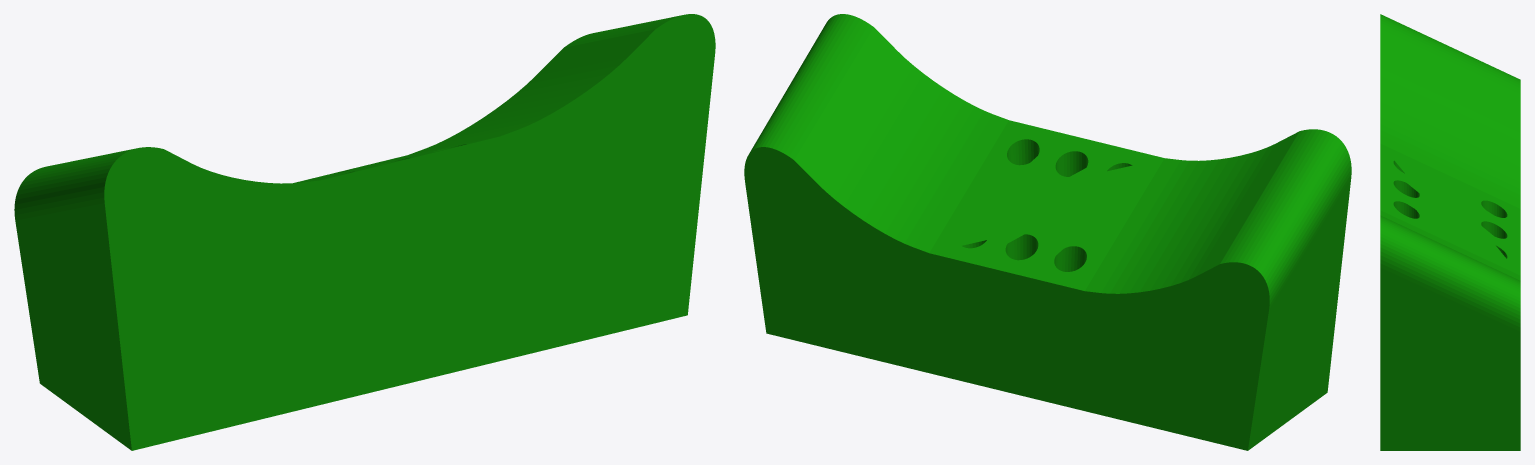
The model's file is TerrenoToposFBX.fbx.
3 views of the same model, side by side, from view 1: azimuth 30°, elevation 25°; view 2: azimuth 150°, elevation 25°; view 3: azimuth 270°, elevation 25° (orthographic). The views are drawn at different scales.
Parts seen in each view (by area): view 1: Cubo; view 2: Cubo; view 3: Cubo.
Part boxes in pixels (x1=…): Cubo: x1=14, y1=14, x2=715, y2=450; Cubo: x1=744, y1=14, x2=1351, y2=450; Cubo: x1=1380, y1=14, x2=1520, y2=450.
Bounding box in the file's own units: 6134 × 2891 × 1602.
